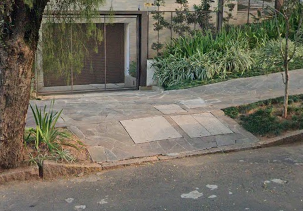vag51: (94, 120, 258, 177)
